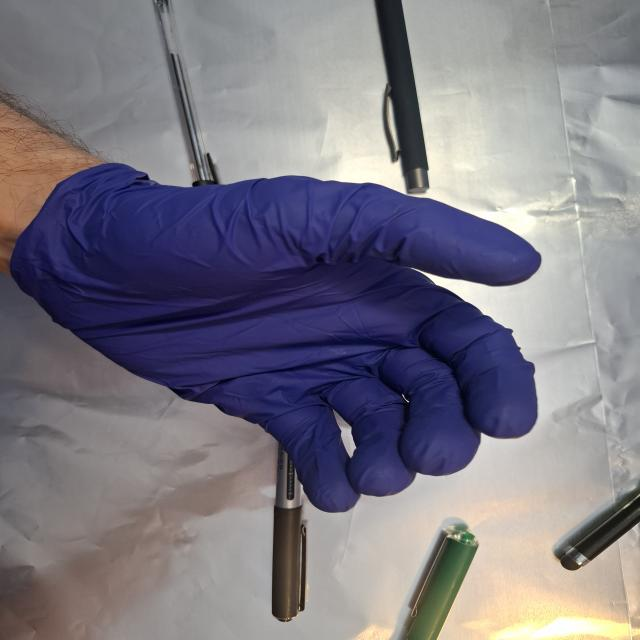glove_on: (15, 161, 546, 515)
